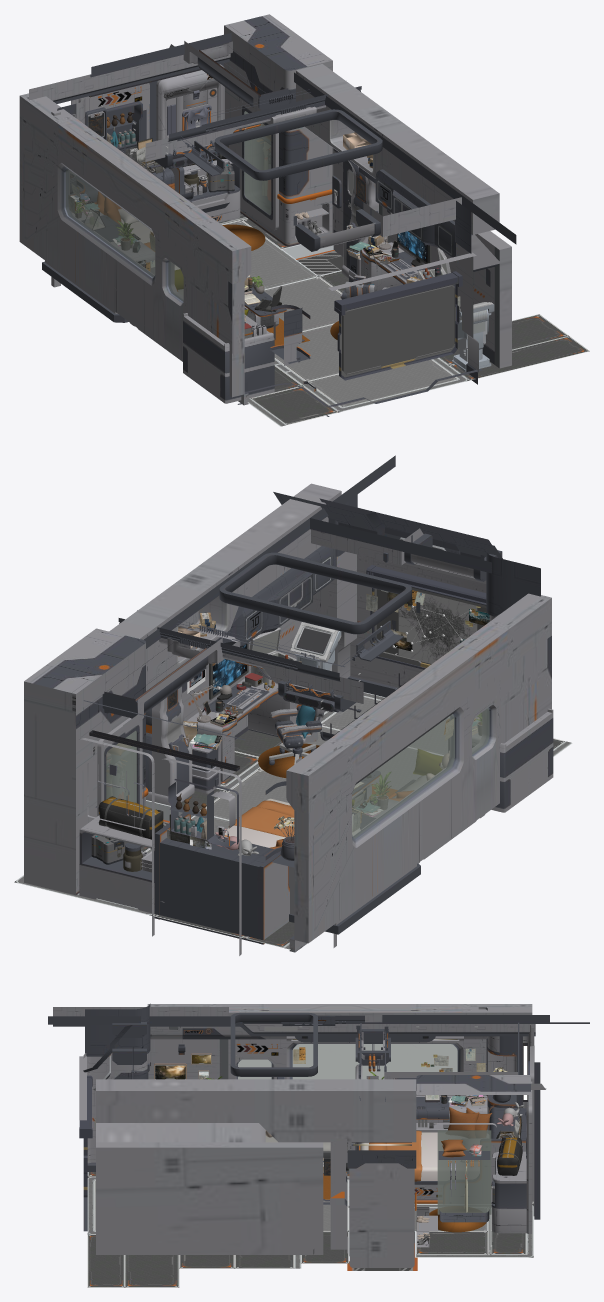
File: dormitory.glb
3 renders of one model, top to bottom at view 1: azimuth 30°, elevation 25°; view 2: azimuth 150°, elevation 25°; view 3: azimuth 270°, elevation 25°, orthographic. The views are drawn at different scales.
Size of the model in its own units: 5.54 by 3.21 by 9.29.
Materials: 75 (70 with a texture image).
